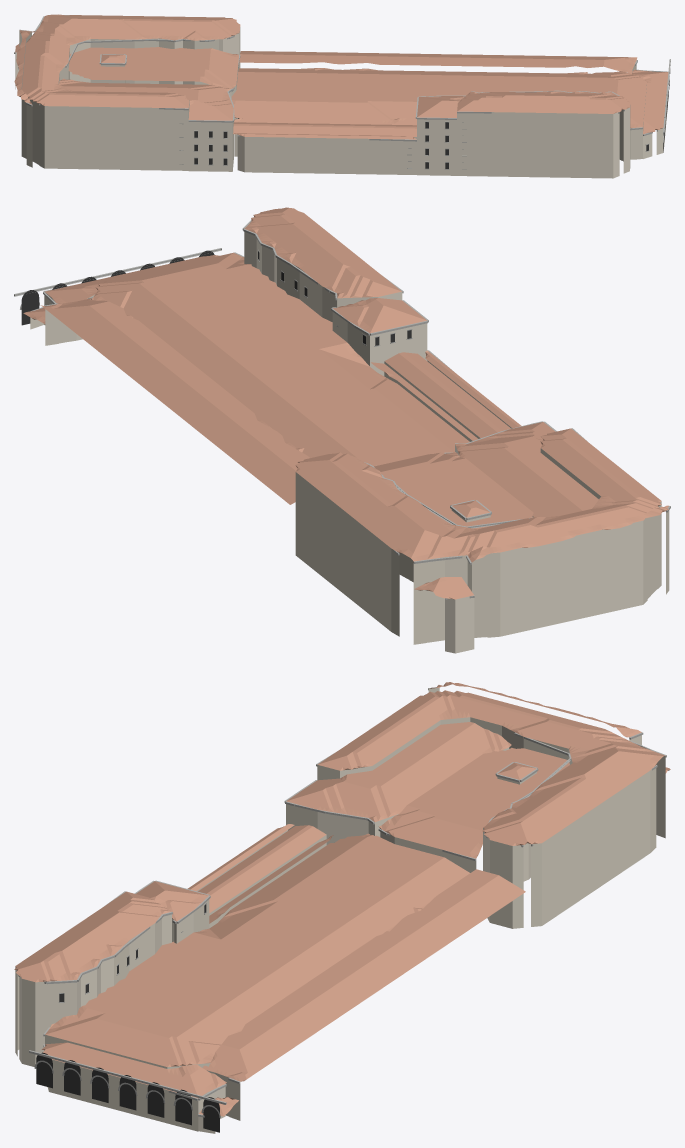
File: leopolda.glb
3 views of the same model, one above another, from view 1: azimuth 30°, elevation 25°; view 2: azimuth 150°, elevation 25°; view 3: azimuth 270°, elevation 25° (orthographic). The views are drawn at different scales.
Parts seen in each view (by area): view 1: stazione_leopolda@1848-99999.roof_m, stazione_leopolda@1848-99999.plaster, stazione_leopolda@1848-99999.serena, stazione_leopolda@1848-99999.dark; view 2: stazione_leopolda@1848-99999.roof_m, stazione_leopolda@1848-99999.plaster, stazione_leopolda@1848-99999.serena, stazione_leopolda@1848-99999.dark; view 3: stazione_leopolda@1848-99999.roof_m, stazione_leopolda@1848-99999.plaster, stazione_leopolda@1848-99999.dark, stazione_leopolda@1848-99999.serena.
Boxes of the visible parts, x1,y1,x2,y2 form: stazione_leopolda@1848-99999.roof_m: (14,14,668,139); stazione_leopolda@1848-99999.plaster: (15,27,668,178); stazione_leopolda@1848-99999.serena: (14,15,670,169); stazione_leopolda@1848-99999.dark: (18,67,669,168); stazione_leopolda@1848-99999.roof_m: (23,207,668,599); stazione_leopolda@1848-99999.plaster: (30,232,669,653); stazione_leopolda@1848-99999.serena: (14,220,670,599); stazione_leopolda@1848-99999.dark: (21,250,411,345); stazione_leopolda@1848-99999.roof_m: (14,682,670,1116); stazione_leopolda@1848-99999.plaster: (15,687,665,1133); stazione_leopolda@1848-99999.dark: (36,904,219,1132); stazione_leopolda@1848-99999.serena: (16,687,666,1121).
Size of the model in its own units: 164 by 19.66 by 123.
